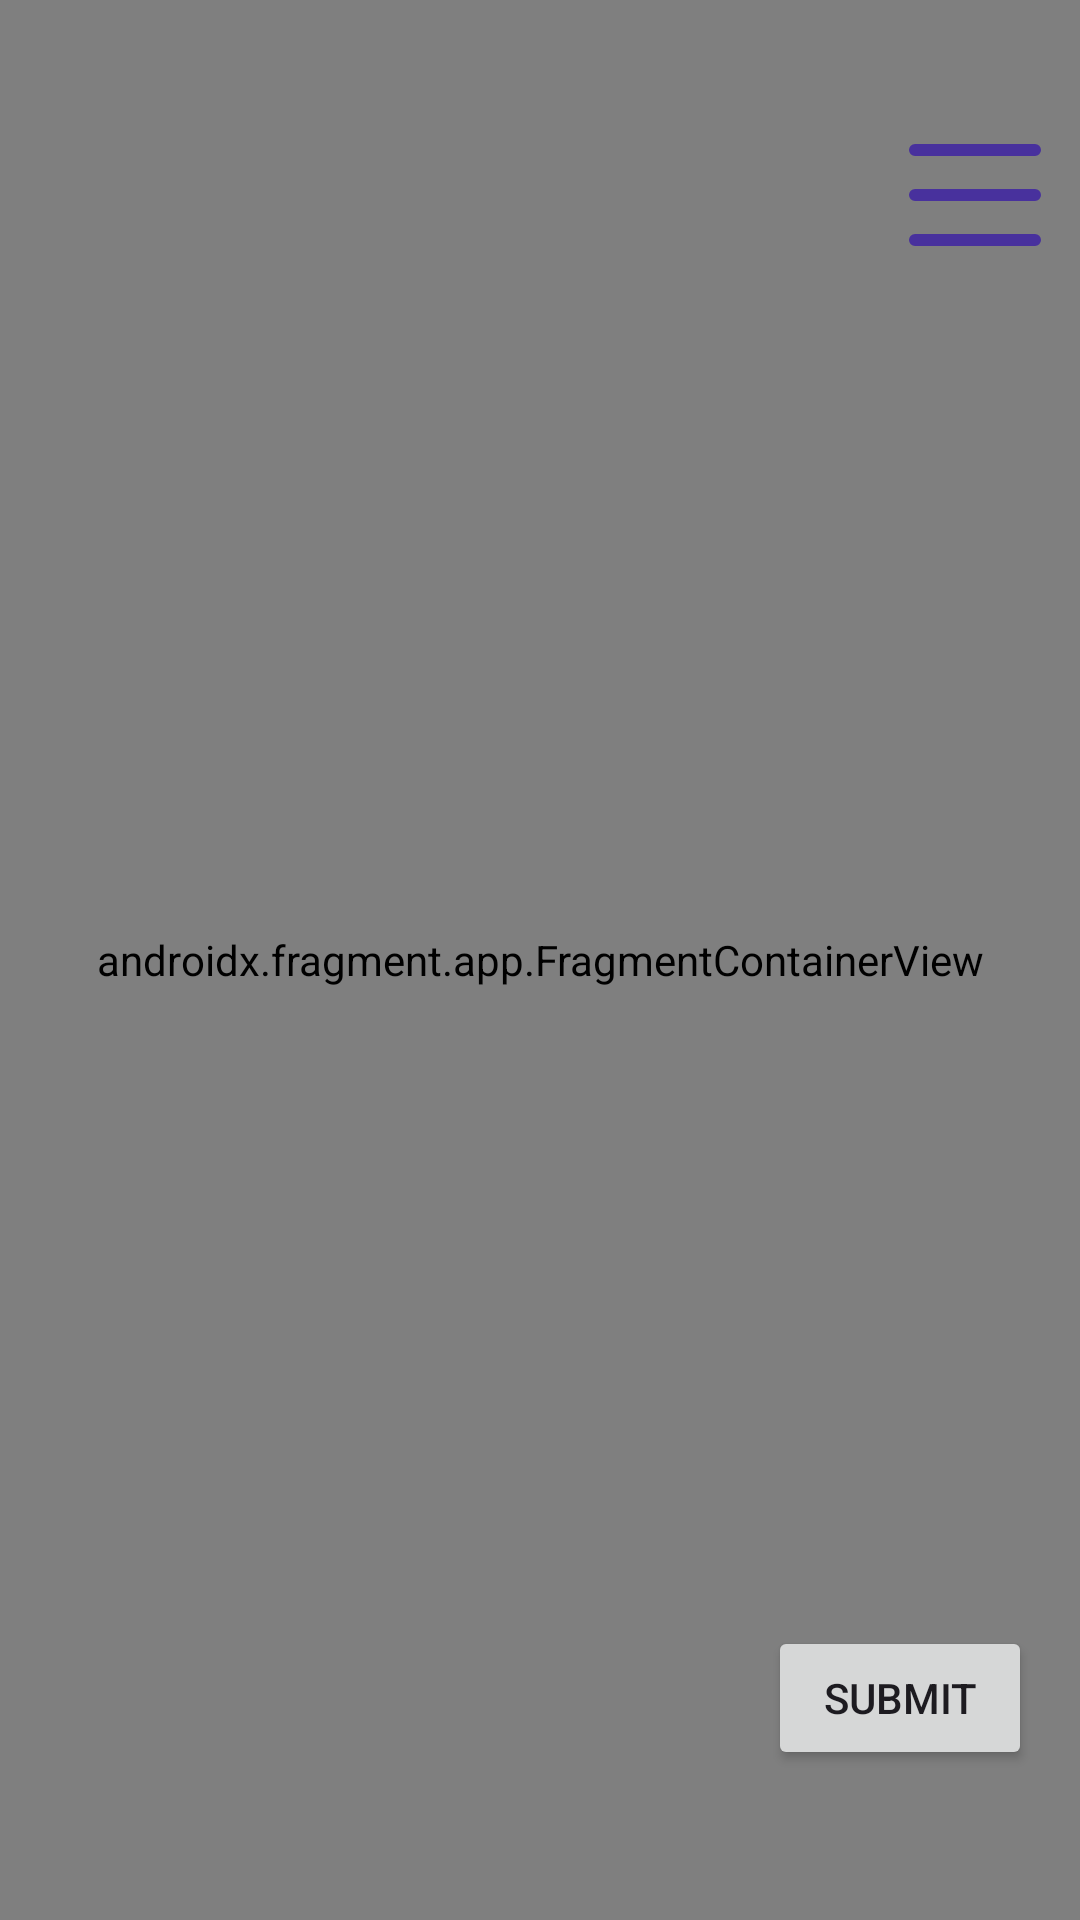

Where icons sit on this 1080px×1920px app screen, as [left=x1, top=y1, right=x2, bottom=y2]:
Menu Map Options: [left=909, top=144, right=1041, bottom=246]
